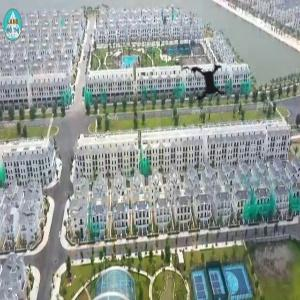drone: (163, 40, 251, 128)
